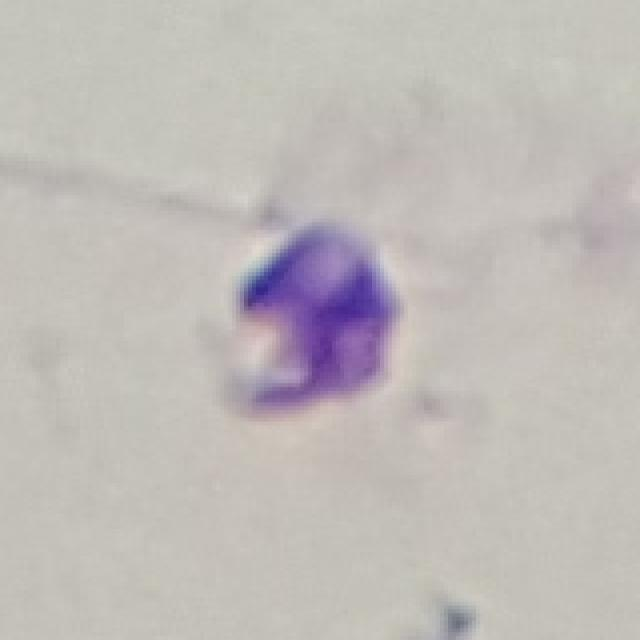non-sperm: (213, 212, 420, 434)
